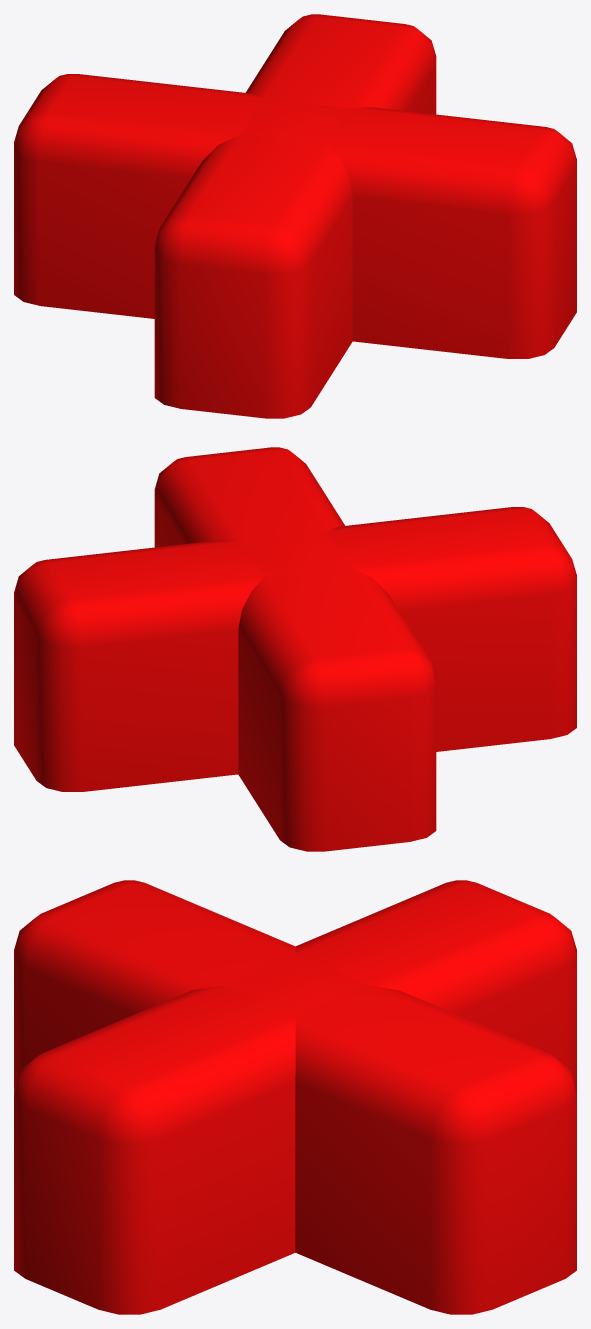
File: DecorMachine_Buttons_X.FBX
The picture shows the model from 3 angles, top to bottom: view 1: azimuth 30°, elevation 25°; view 2: azimuth 150°, elevation 25°; view 3: azimuth 270°, elevation 25°; orthographic projection. The views are drawn at different scales.
Parts seen in each view (by area): view 1: DecorMachine_Buttons_X; view 2: DecorMachine_Buttons_X; view 3: DecorMachine_Buttons_X.
Boxes of the visible parts, x1,y1,x2,y2 form: DecorMachine_Buttons_X: [14, 14, 576, 418]; DecorMachine_Buttons_X: [14, 447, 576, 851]; DecorMachine_Buttons_X: [14, 880, 576, 1314].
Size of the model in its own units: 1619 by 668 by 1619.
